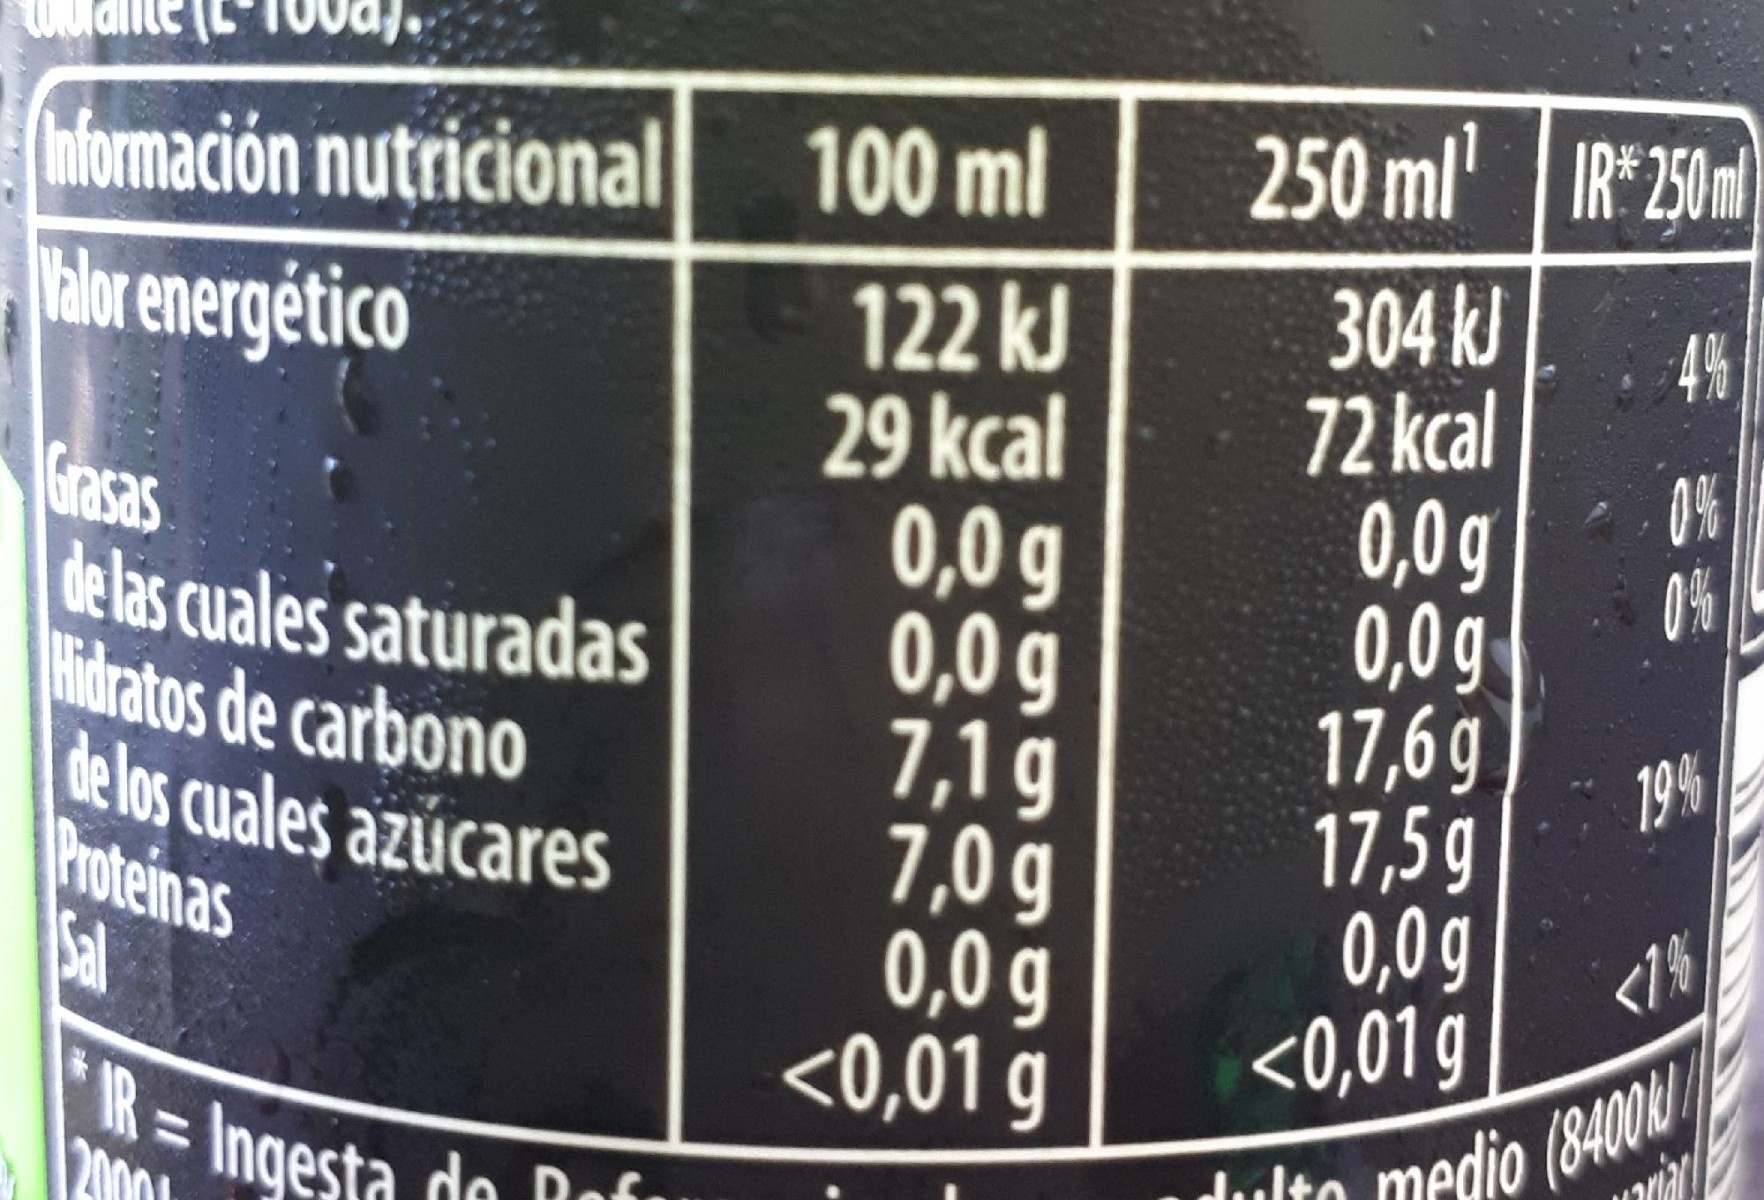column: (43, 108, 664, 1000), (782, 123, 1068, 1138), (1247, 121, 1503, 1105), (1570, 137, 1747, 1014)
table: (17, 58, 1764, 1157)
